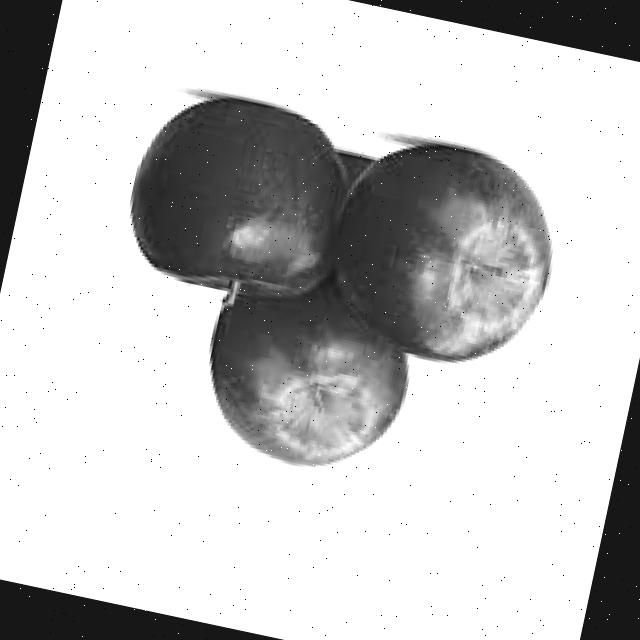apple: (315, 125, 570, 380), (110, 75, 358, 328), (184, 310, 414, 487)
